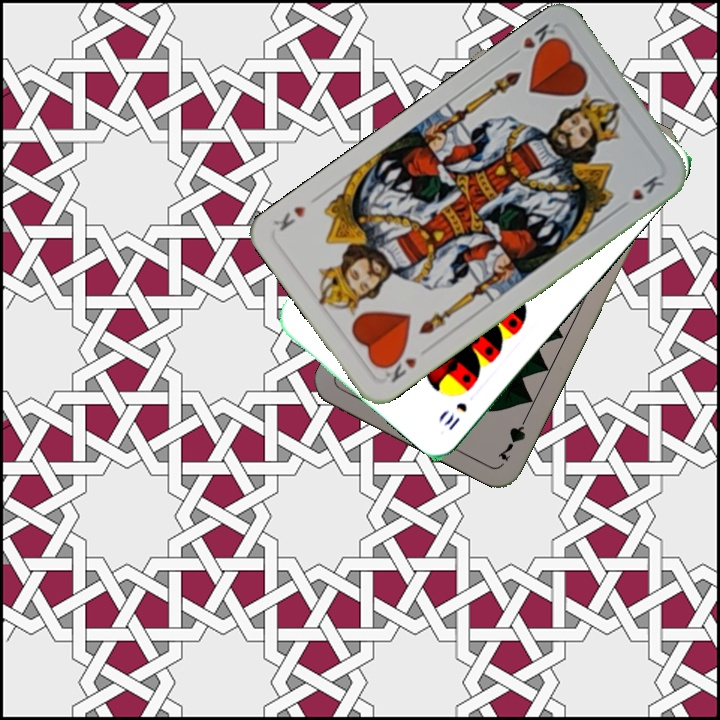G7: (493, 409, 532, 464)
HK: (505, 19, 562, 61), (378, 348, 420, 386)
S10: (440, 398, 470, 433)
